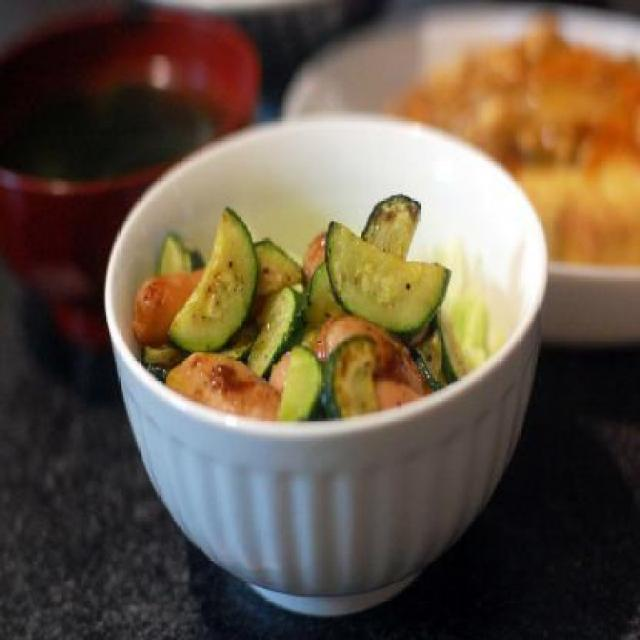Cucumber: (140, 198, 468, 412), (324, 209, 432, 326)
